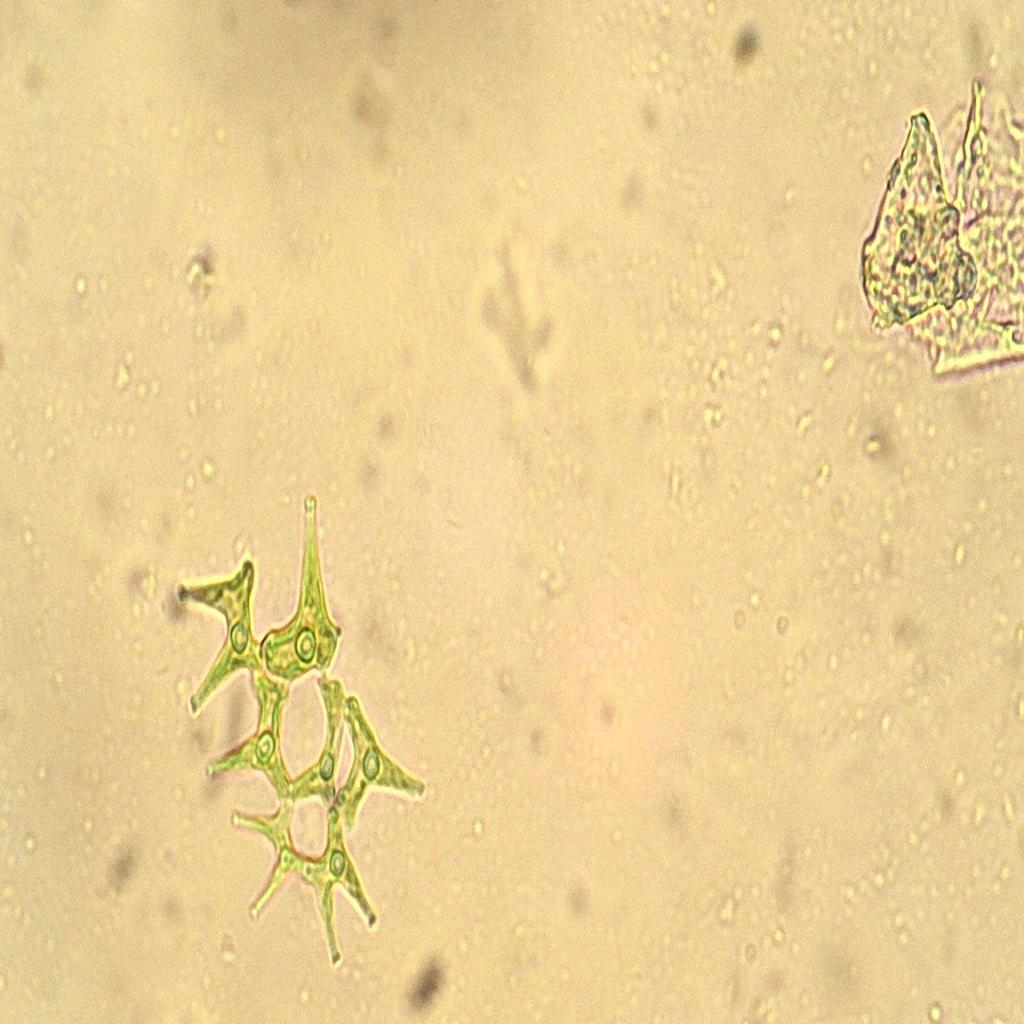Pediastrum_CFI: (166, 451, 442, 984)
